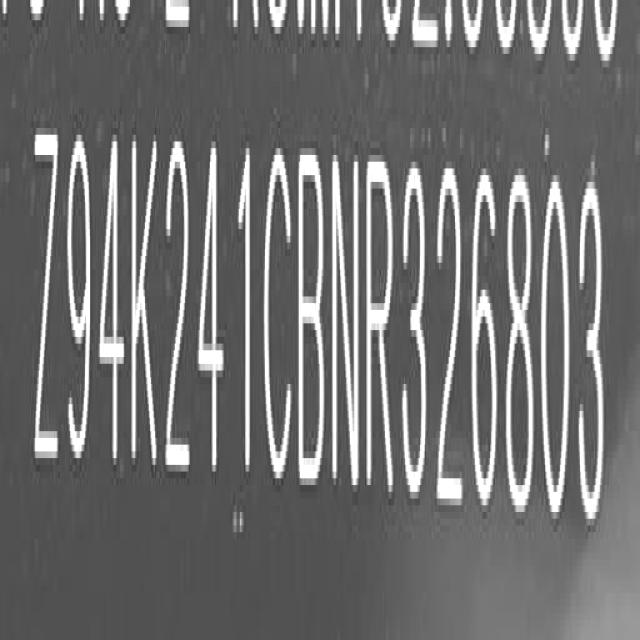0: (543, 178, 571, 524)
1: (236, 136, 254, 488)
2: (165, 128, 195, 490), (435, 162, 465, 516)
3: (400, 157, 430, 511), (579, 179, 606, 529)
4: (198, 130, 228, 492), (99, 126, 127, 480)
6: (469, 167, 499, 518)
8: (506, 169, 536, 522)
9: (65, 128, 94, 482)
B: (298, 141, 330, 495)
C: (262, 140, 294, 492)
K: (129, 131, 160, 488)
N: (332, 143, 366, 498)
R: (366, 149, 397, 504)
Z: (33, 126, 62, 483)
